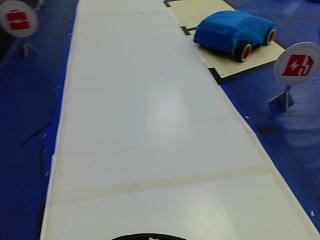battery: (276, 42, 318, 86)
car: (181, 9, 280, 65)
company: (1, 0, 34, 36)
